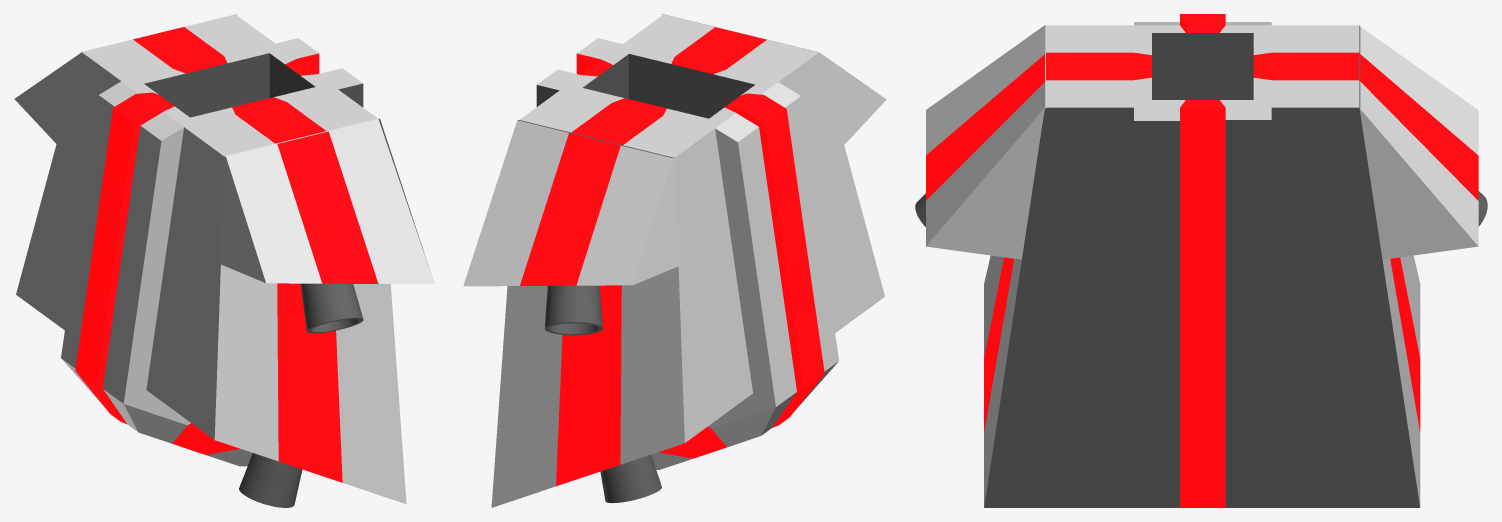
Rendered from playerbackpack.fbx.
3 views of the same model, side by side, from view 1: azimuth 30°, elevation 25°; view 2: azimuth 150°, elevation 25°; view 3: azimuth 270°, elevation 25° (orthographic). The views are drawn at different scales.
Parts seen in each view (by area): view 1: Cube; view 2: Cube; view 3: Cube.
Part boxes in pixels (box(x1,y1,x2,y2)): Cube: box(14, 14, 434, 507); Cube: box(463, 14, 886, 507); Cube: box(915, 14, 1487, 507).
Size of the model in its own units: 256 by 376 by 471.
